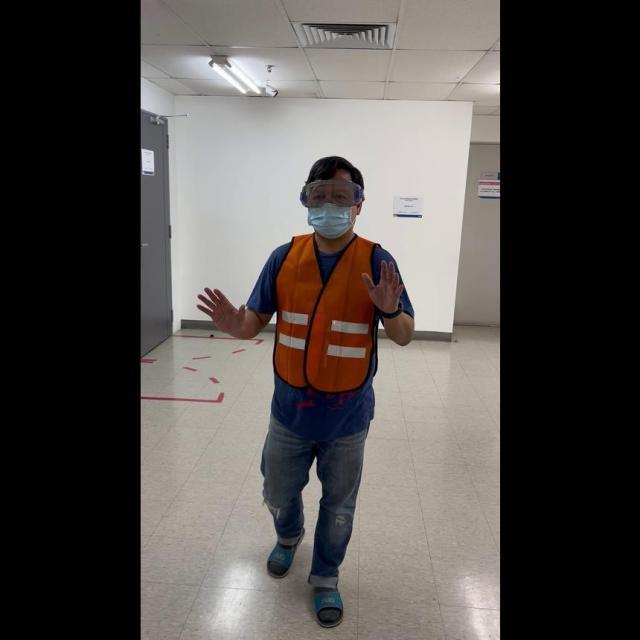bare_hand: (194, 282, 243, 336), (359, 255, 403, 315)
